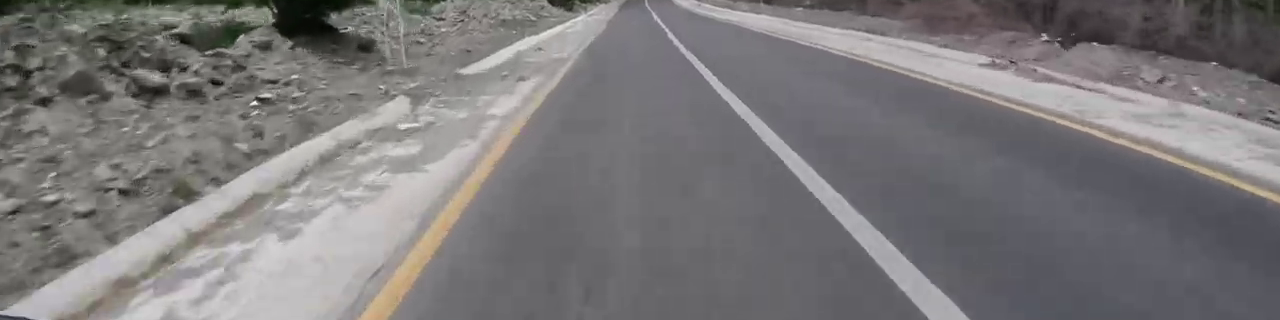left: (513, 38, 1101, 302)
